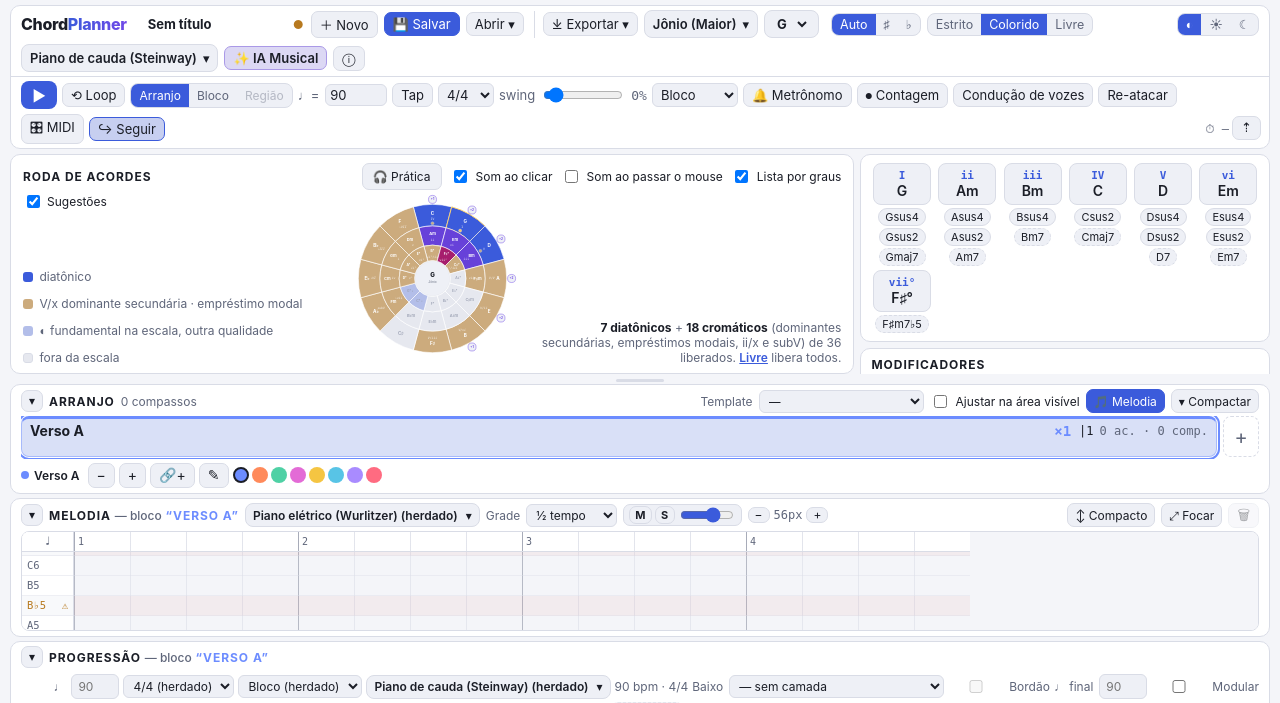
Test: App (fumaça) › salvar, novo (com confirmação) e abrir pela interface
Later steps or results of the test are not shown.
(page scrolled)
Replace the text in the field named "Nome da música" with "Teste G" at point(215, 24), box [141, 11, 289, 37]
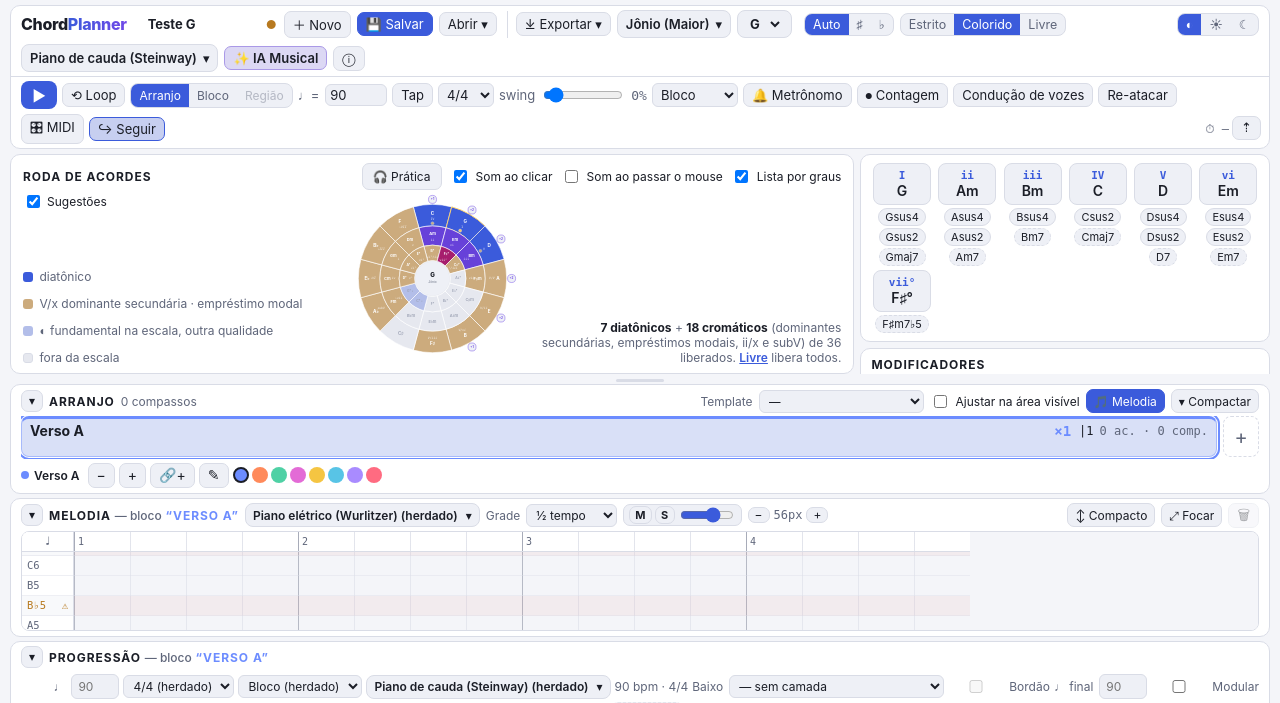
Click the button titled "Salvar (Ctrl+S)" at point(395, 24), box [356, 12, 433, 36]
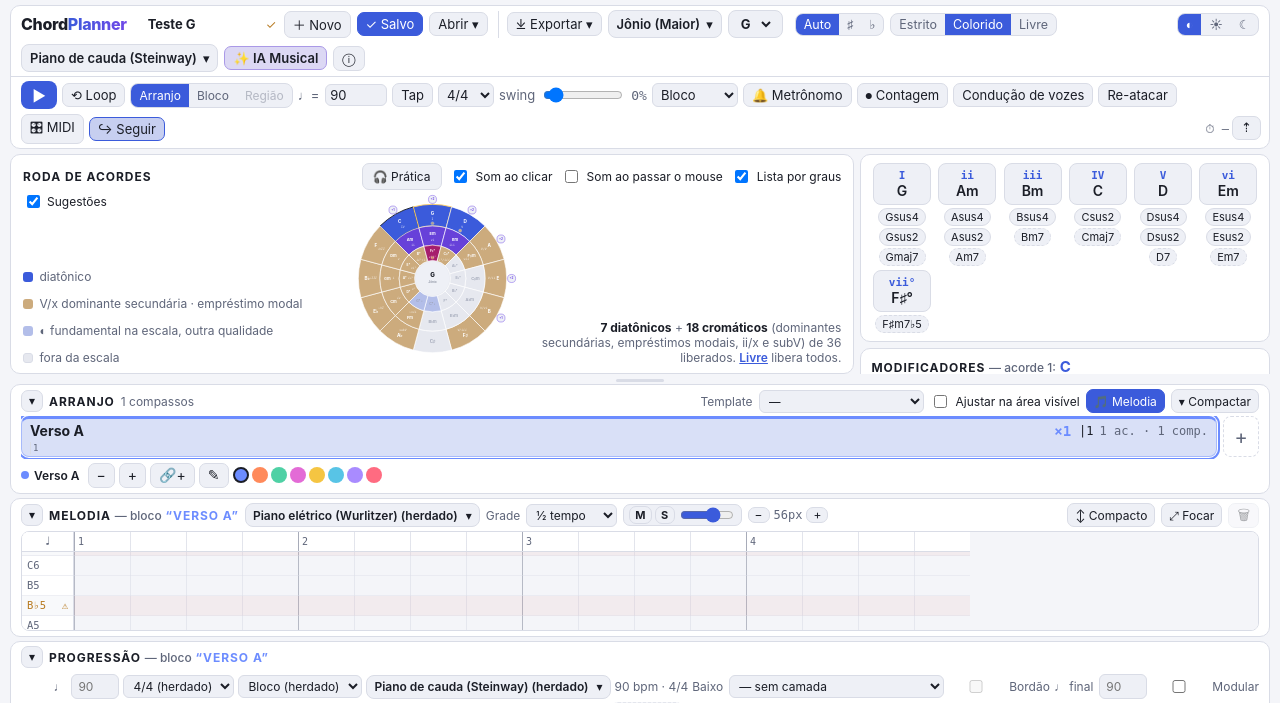
Click the button titled "Nova música" at point(317, 24), box [284, 10, 350, 38]
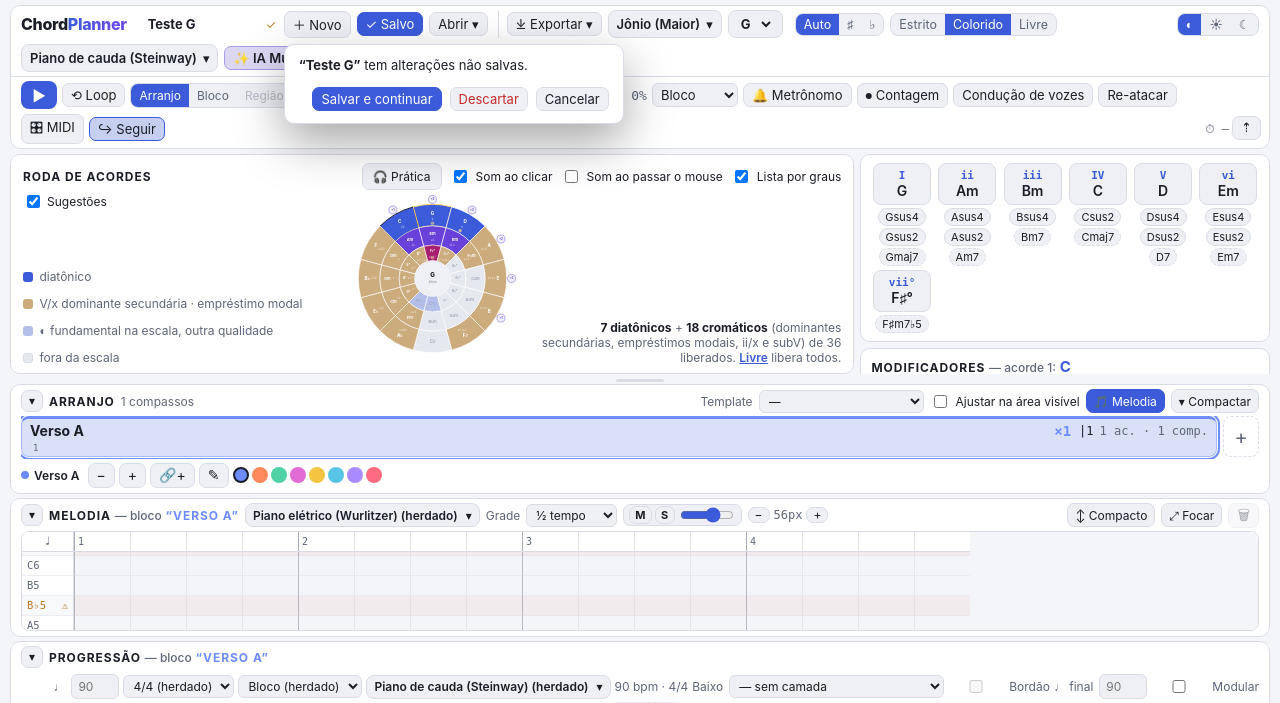
Result: the dialog shows "não salvas" at [360, 56, 528, 72]
